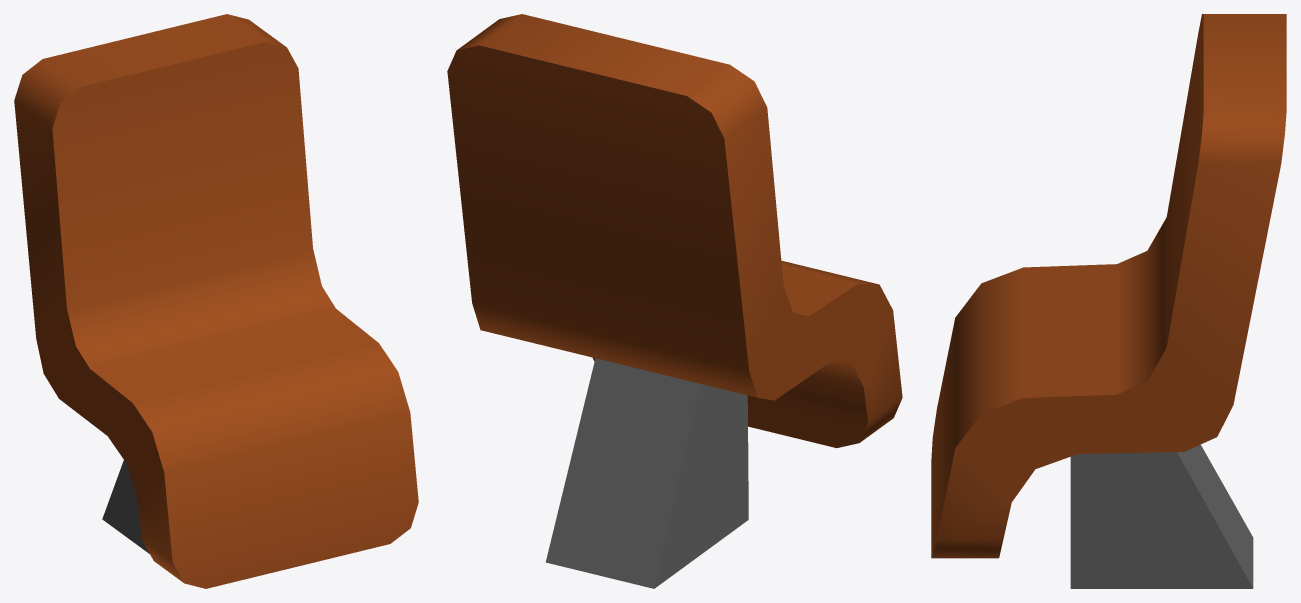
Rendered from chair_10.fbx.
The picture shows the model from 3 angles, left to right: view 1: azimuth 30°, elevation 25°; view 2: azimuth 150°, elevation 25°; view 3: azimuth 270°, elevation 25°; orthographic projection. The views are drawn at different scales.
Visible parts, largest first — view 1: chair_10; view 2: chair_10; view 3: chair_10.
Part boxes in pixels (x1=…): chair_10: x1=14, y1=14, x2=418, y2=588; chair_10: x1=447, y1=14, x2=902, y2=588; chair_10: x1=931, y1=14, x2=1286, y2=588.
Size of the model in its own units: 47.23 by 84.34 by 54.29.
